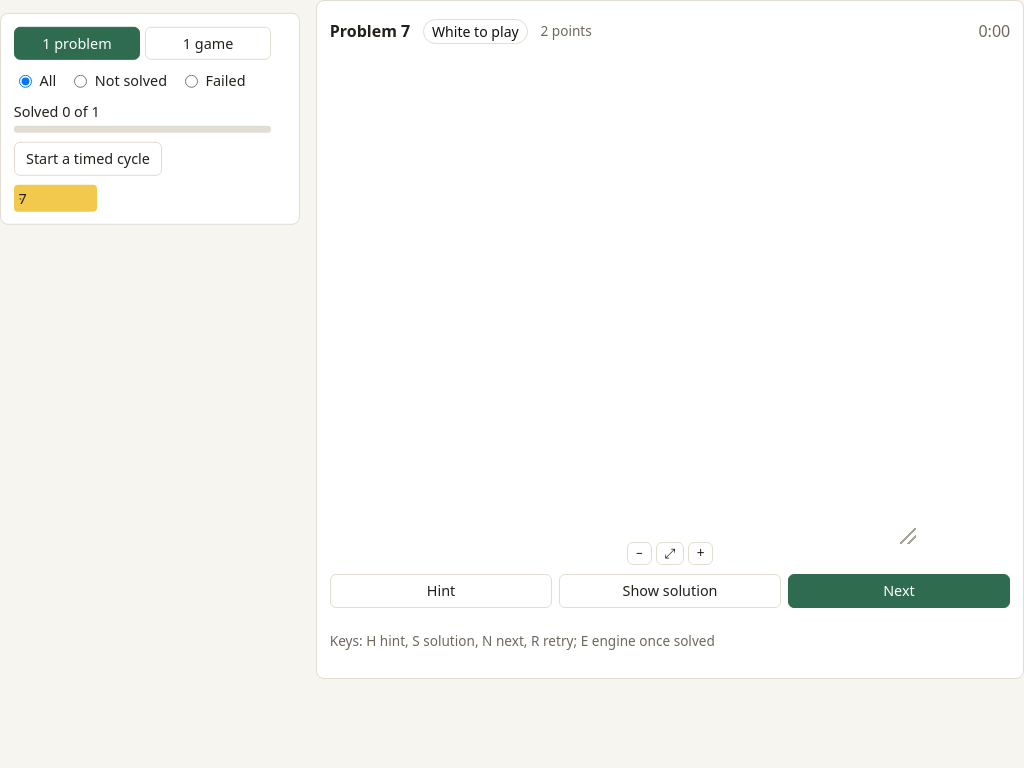
solving mode › opens the games for guess-the-move
Step 1. Click the tab "1 game" → [208, 43], box [145, 27, 271, 60]
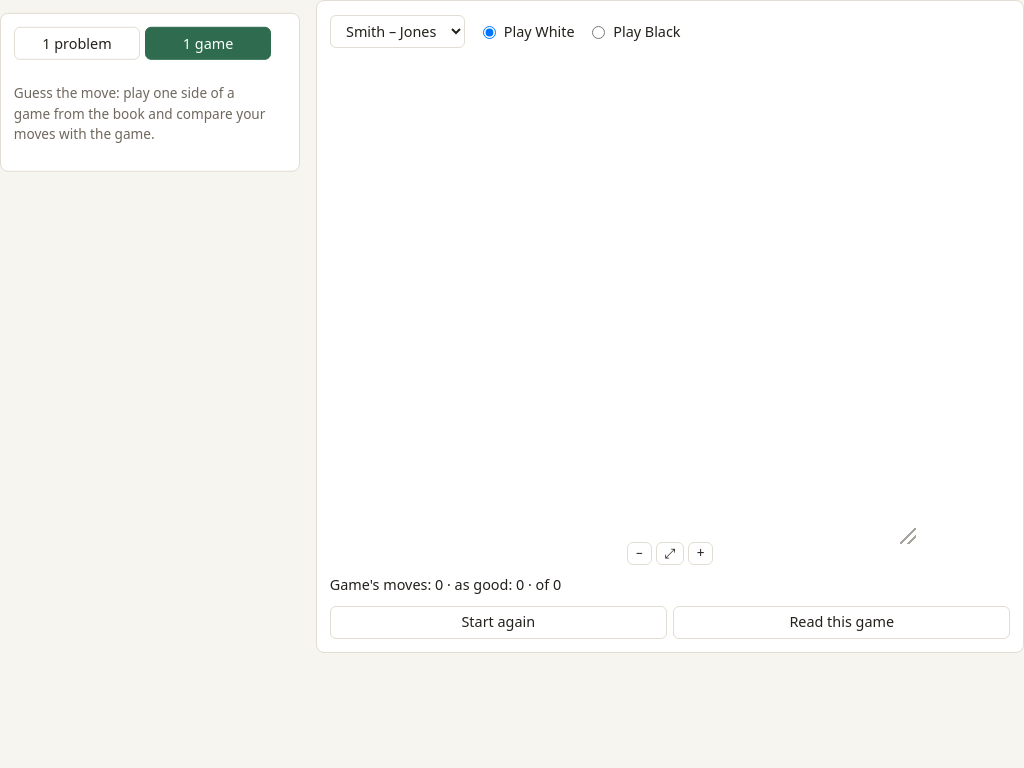
Now the text "Play White" is shown, box [478, 21, 575, 42]
